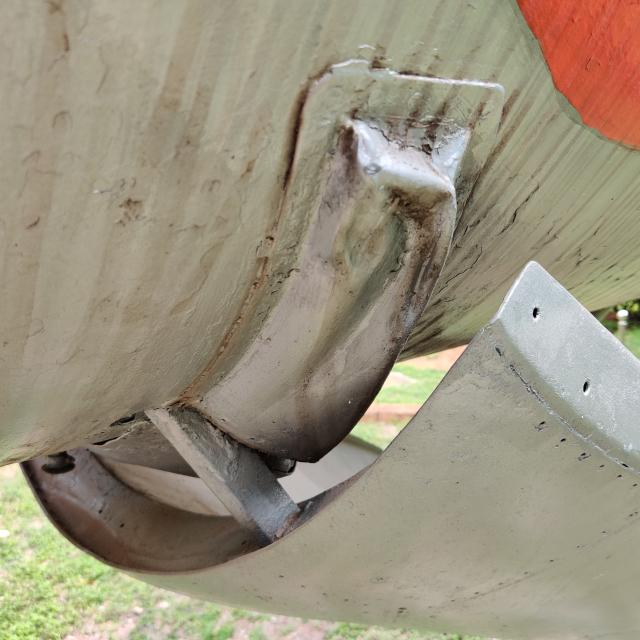dent: (305, 115, 472, 403)
